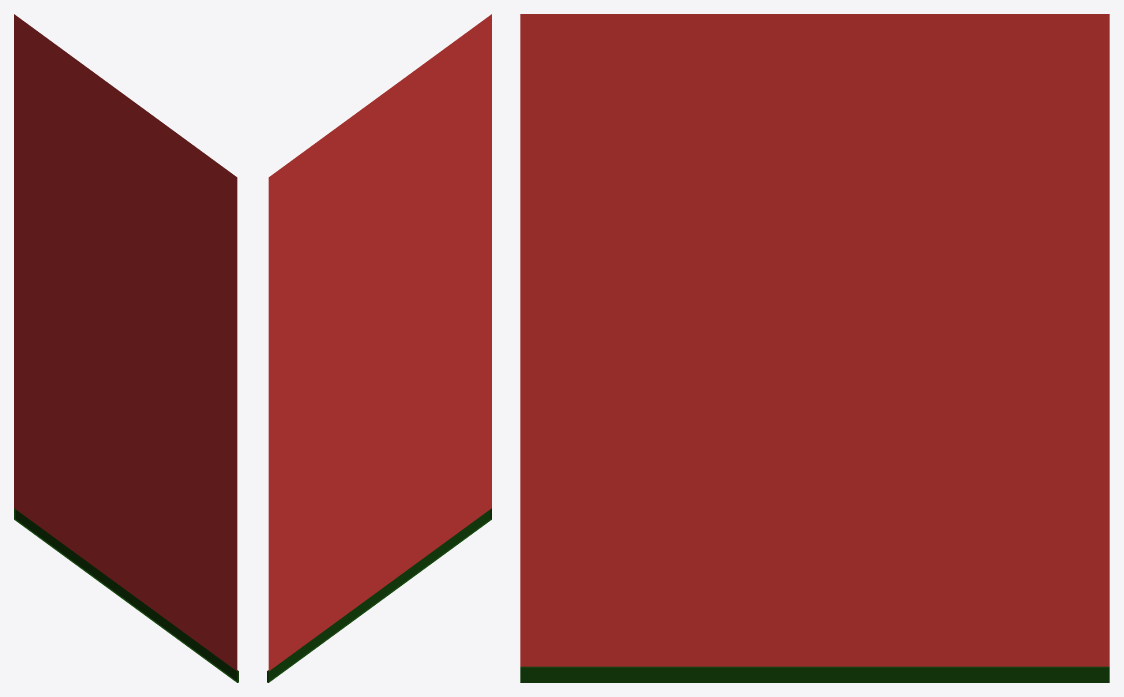
Rendered from Lockerroombathroomwall-2x2,5M.fbx.
3 renders of one model, left to right at view 1: azimuth 30°, elevation 25°; view 2: azimuth 150°, elevation 25°; view 3: azimuth 270°, elevation 25°, orthographic. The views are drawn at different scales.
Parts seen in each view (by area): view 1: Lockerroom-Bathroomwall2x2,5m; view 2: Lockerroom-Bathroomwall2x2,5m; view 3: Lockerroom-Bathroomwall2x2,5m.
Part boxes in pixels (x1,y1,x2,y2): Lockerroom-Bathroomwall2x2,5m: [14, 14, 238, 682]; Lockerroom-Bathroomwall2x2,5m: [267, 14, 491, 682]; Lockerroom-Bathroomwall2x2,5m: [520, 14, 1109, 682].
Bounding box in the file's own units: 0.874 × 250 × 200.
